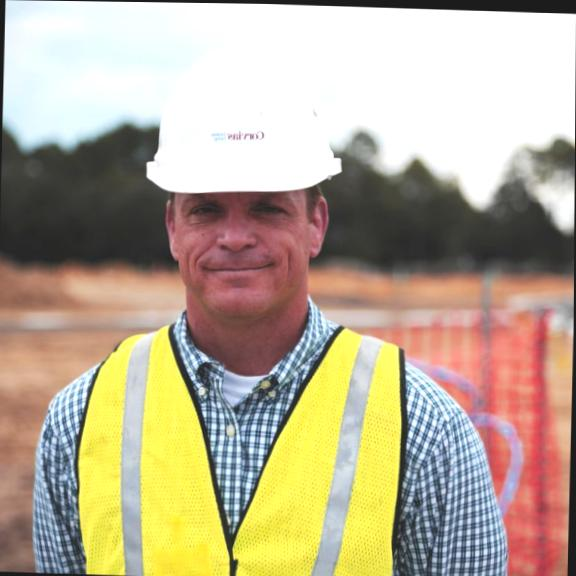safety_vest: (49, 310, 446, 576)
